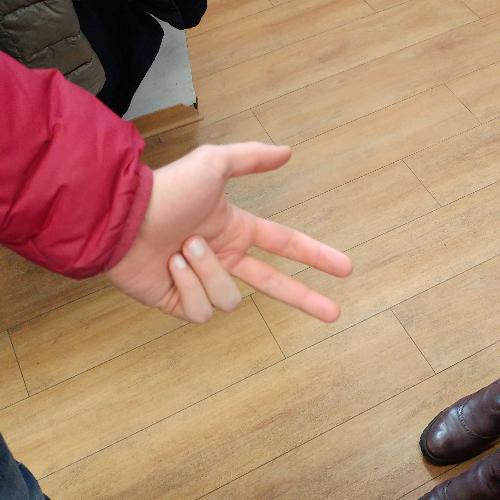scissors: (114, 128, 358, 340)
